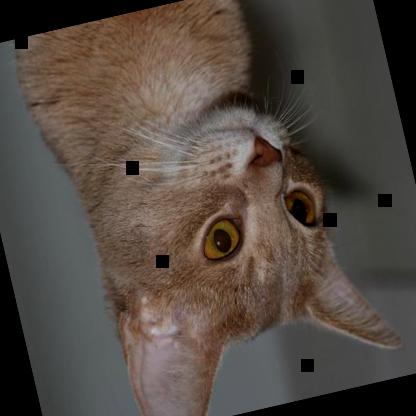cat: (7, 0, 412, 415)
